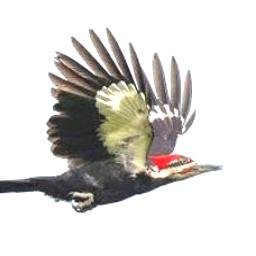Woodpecker: (0, 26, 226, 214)
